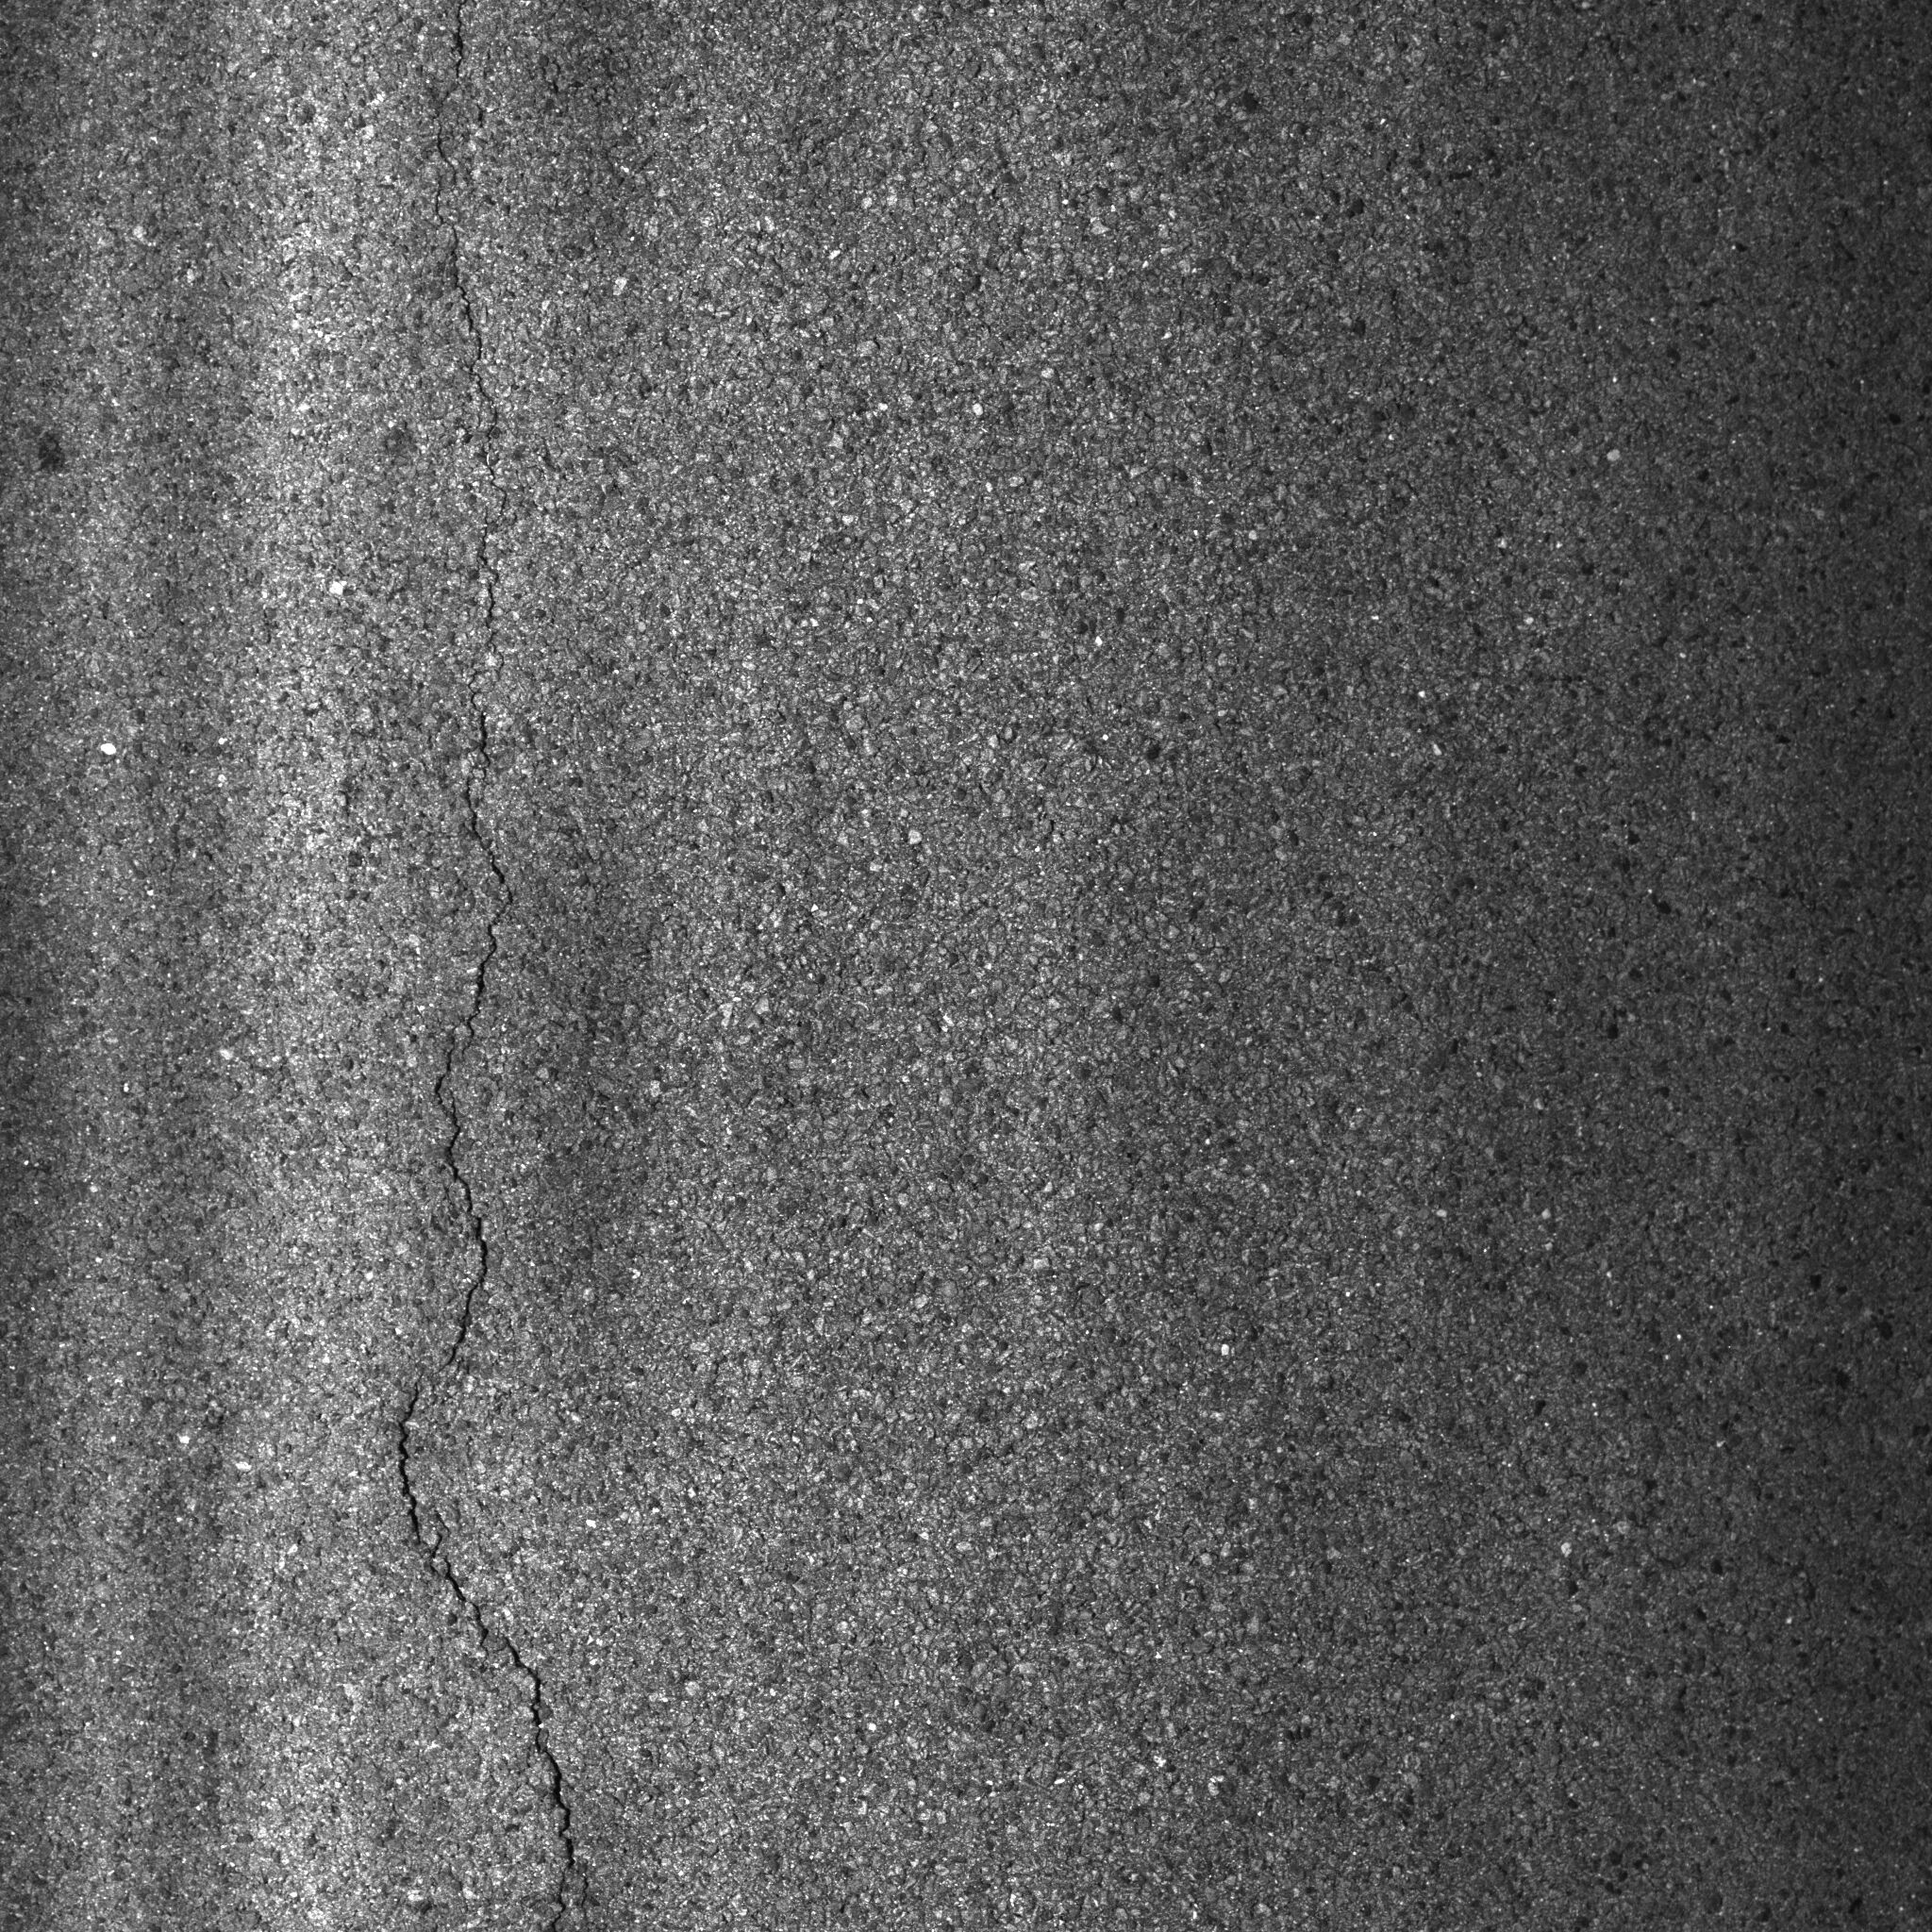longitudinal: (398, 7, 637, 1921)
